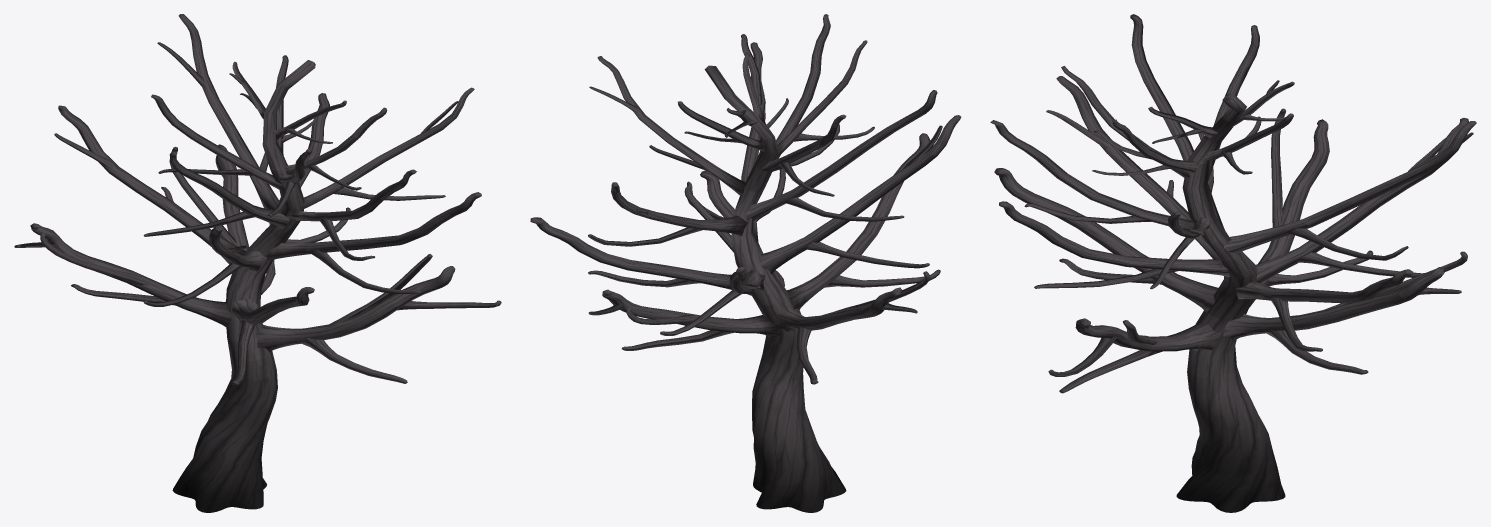
Rendered from tree.glb.
3 views of the same model, side by side, from view 1: azimuth 30°, elevation 25°; view 2: azimuth 150°, elevation 25°; view 3: azimuth 270°, elevation 25° (orthographic). The views are drawn at different scales.
Parts seen in each view (by area): view 1: DeadTree_1; view 2: DeadTree_1; view 3: DeadTree_1.
Boxes of the visible parts, <box> form: DeadTree_1: <box>14,14,501,512</box>; DeadTree_1: <box>530,14,961,512</box>; DeadTree_1: <box>990,14,1476,512</box>.
Size of the model in its own units: 1 by 1 by 1.
Materials: 1 (1 with a texture image).
